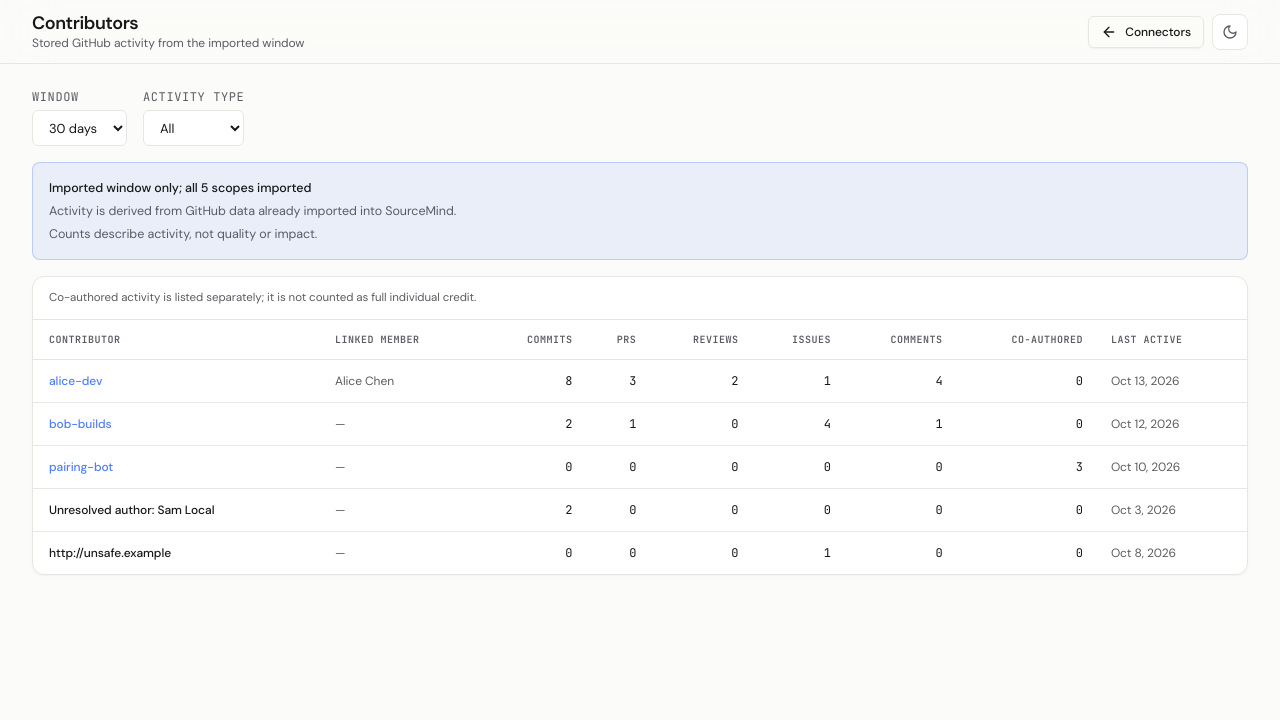
the type filter shows only contributors with that activity
Expected: the table with test id "contributors-table" is shown, [33, 320, 1247, 574]
Step 1. Select "PRs" in the dropdown with test id "type-filter" → point(194, 128), box [143, 110, 244, 146]
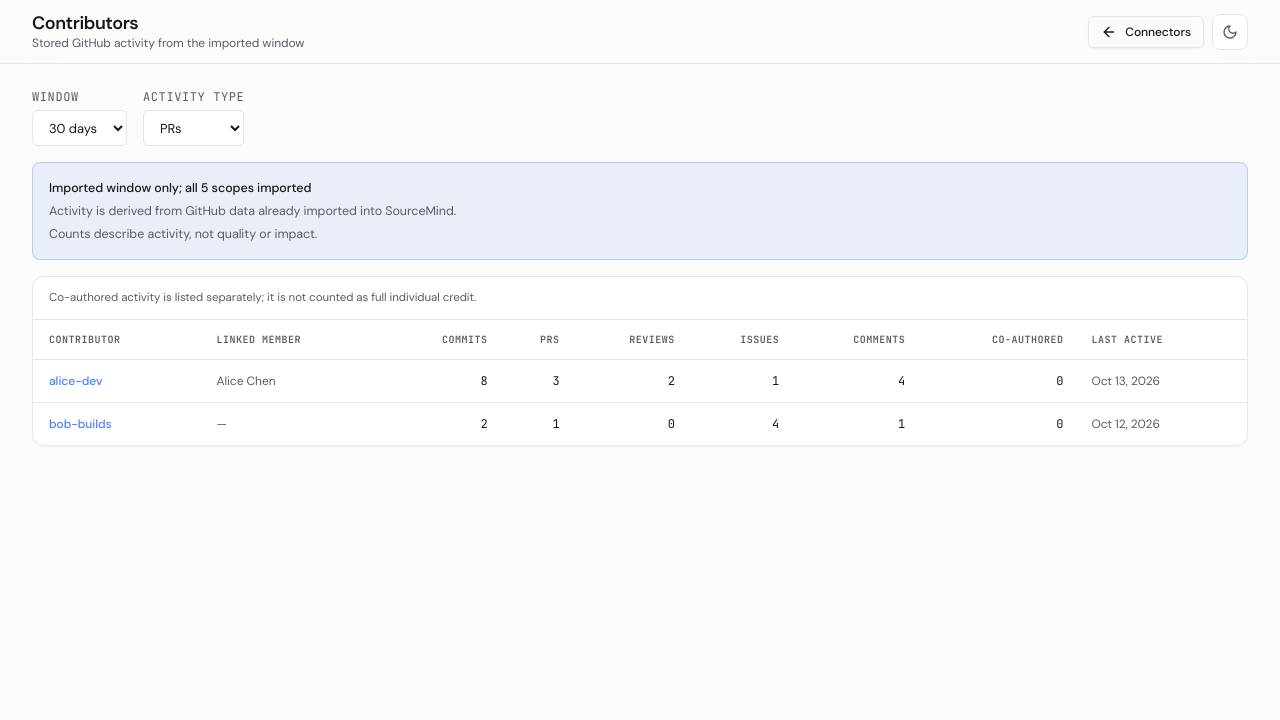
Expected: the row with test id "contributor-alice-dev" is shown, [33, 359, 1247, 402]
Expected: the row with test id "contributor-pairing-bot" is gone
Expected: the text "Unresolved author: Sam Local" is gone
